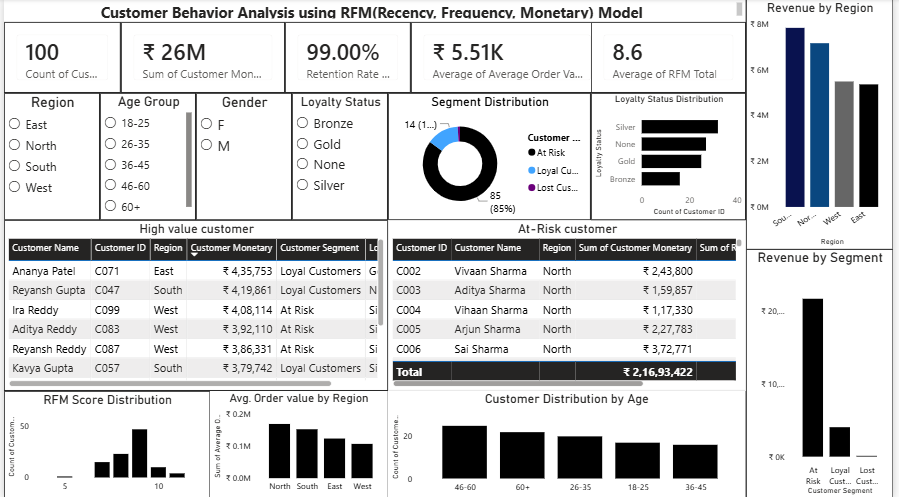

Layout of this report page (visuals, bound fields, positions):
{"tool":"powerbi","page":{"name":"Page 1","canvas":[1280,720],"ordinal":0},"visuals":[{"type":"donutChart","title":"Segment Distribution","fields":{"Category":["customer_master_RFM.Customer Segment"],"Y":["CountNonNull(customer_master_RFM.Customer ID)"]},"box":[553,135.4,292.3,182.9],"z":0},{"type":"clusteredColumnChart","title":"Revenue by Segment","fields":{"Category":["customer_master_RFM.Customer Segment"],"Y":["Sum(customer_master_RFM.Customer Monetary)"]},"box":[1068.5,360,211.7,360],"z":1000},{"type":"cardVisual","fields":{"Data":["CountNonNull(customer_master_RFM.Customer ID)"]},"box":[0,33.1,168.5,102.2],"z":2000},{"type":"cardVisual","fields":{"Data":["Sum(customer_master_RFM.Customer Monetary)"]},"box":[168.5,33.1,236.2,102.2],"z":3000},{"type":"cardVisual","fields":{"Data":["Transactions_RFM.Retention Rate %"]},"box":[404.6,33.1,181.4,102.2],"z":4000},{"type":"cardVisual","fields":{"Data":["Avg(customer_master_RFM.Average Order Value)"]},"box":[586.1,33.1,277.9,102.2],"z":5000},{"type":"cardVisual","fields":{"Data":["Avg(customer_master_RFM.RFM Total)"]},"box":[845.3,33.1,223.2,102.2],"z":6000},{"type":"listSlicer","fields":{"Values":["customer_master_RFM.Region"]},"box":[0,135.4,138.2,182.9],"z":7000},{"type":"listSlicer","fields":{"Values":["customer_master_RFM.Age Group"]},"box":[138.2,135.4,138.2,182.9],"z":8000},{"type":"listSlicer","fields":{"Values":["customer_master_RFM.Gender"]},"box":[276.5,135.4,138.2,182.9],"z":9000},{"type":"listSlicer","fields":{"Values":["customer_master_RFM.Loyalty Status"]},"box":[414.7,135.4,138.2,182.9],"z":10000},{"type":"tableEx","title":"High value customer","fields":{"Values":["customer_master_RFM.Customer Name","customer_master_RFM.Customer ID","customer_master_RFM.Region","customer_master_RFM.Customer Monetary","customer_master_RFM.Customer Segment","customer_master_RFM.Loyalty Status"]},"box":[0,318.2,553,246.2],"z":11000},{"type":"tableEx","title":"At-Risk customer","fields":{"Values":["customer_master_RFM.Customer ID","customer_master_RFM.Customer Name","customer_master_RFM.Region","Sum(customer_master_RFM.Customer Monetary)","Sum(customer_master_RFM.RFM Total)","customer_master_RFM.Customer Segment"]},"box":[553,318.2,515.5,246.2],"z":12000},{"type":"clusteredColumnChart","title":"Revenue by Region","fields":{"Category":["customer_master_RFM.Region"],"Y":["Sum(customer_master_RFM.Customer Monetary)"]},"box":[1068.5,0,211.7,361.4],"z":13000},{"type":"clusteredBarChart","title":"Loyalty Status Distribution","fields":{"Category":["customer_master_RFM.Loyalty Status"],"Y":["CountNonNull(customer_master_RFM.Customer ID)"]},"box":[845.3,135.4,223.2,182.9],"z":14000},{"type":"clusteredColumnChart","title":"RFM Score Distribution","fields":{"Category":["customer_master_RFM.RFM Total"],"Y":["CountNonNull(customer_master_RFM.Customer ID)"]},"box":[0,564.5,296.6,155.5],"z":15000},{"type":"clusteredColumnChart","title":"Avg. Order value by Region","fields":{"Category":["customer_master_RFM.Region"],"Y":["Sum(customer_master_RFM.Average Order Value)"]},"box":[296.6,564.5,256.3,155.5],"z":16000},{"type":"clusteredColumnChart","title":"Customer Distribution by Age","fields":{"Category":["customer_master_RFM.Age Group"],"Y":["CountNonNull(customer_master_RFM.Customer ID)"]},"box":[553,564,515,156],"z":17000},{"type":"textbox","box":[0,0,1068.5,33.1],"z":18000}]}

Visuals, with their boxes in screenshot pixels (x1, y1, x2, y2), scaled from the page's 1280x720 canvas onto the 899x497 screenshot:
"Segment Distribution" donutChart: box(388, 93, 594, 220)
"Revenue by Segment" clusteredColumnChart: box(750, 248, 898, 496)
cardVisual - CountNonNull(customer_master_RFM.Customer ID): box(0, 23, 118, 93)
cardVisual - Sum(customer_master_RFM.Customer Monetary): box(118, 23, 284, 93)
cardVisual - Transactions_RFM.Retention Rate %: box(284, 23, 412, 93)
cardVisual - Avg(customer_master_RFM.Average Order Value): box(412, 23, 607, 93)
cardVisual - Avg(customer_master_RFM.RFM Total): box(594, 23, 750, 93)
listSlicer - customer_master_RFM.Region: box(0, 93, 97, 220)
listSlicer - customer_master_RFM.Age Group: box(97, 93, 194, 220)
listSlicer - customer_master_RFM.Gender: box(194, 93, 291, 220)
listSlicer - customer_master_RFM.Loyalty Status: box(291, 93, 388, 220)
"High value customer" tableEx: box(0, 220, 388, 390)
"At-Risk customer" tableEx: box(388, 220, 750, 390)
"Revenue by Region" clusteredColumnChart: box(750, 0, 898, 249)
"Loyalty Status Distribution" clusteredBarChart: box(594, 93, 750, 220)
"RFM Score Distribution" clusteredColumnChart: box(0, 390, 208, 496)
"Avg. Order value by Region" clusteredColumnChart: box(208, 390, 388, 496)
"Customer Distribution by Age" clusteredColumnChart: box(388, 389, 750, 496)
textbox: box(0, 0, 750, 23)
